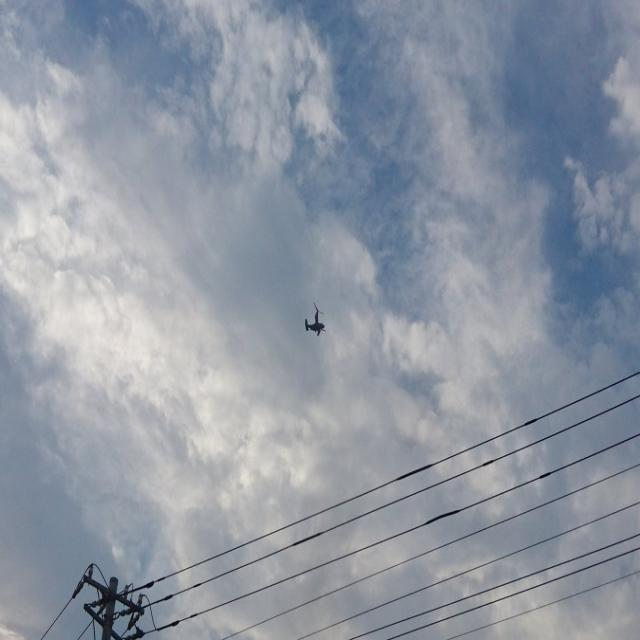MIL_Plane: (305, 302, 326, 336)
